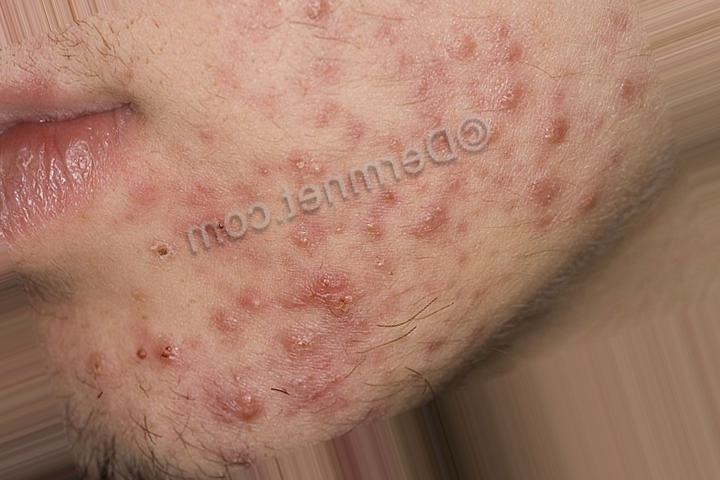Acne: (129, 23, 661, 433)
